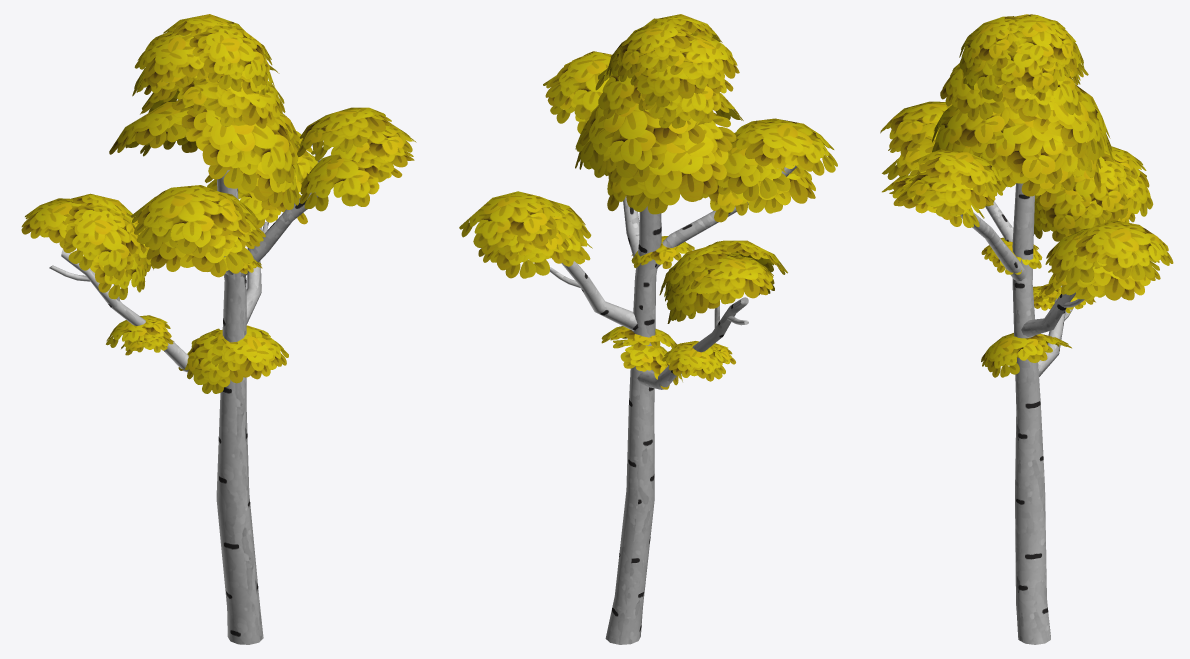
The model's file is Birch_6.gltf.
3 renders of one model, left to right at view 1: azimuth 30°, elevation 25°; view 2: azimuth 150°, elevation 25°; view 3: azimuth 270°, elevation 25°, orthographic. The views are drawn at different scales.
Parts seen in each view (by area): view 1: Birch_10; view 2: Birch_10; view 3: Birch_10.
Boxes of the visible parts, x1,y1,x2,y2 form: Birch_10: (21, 14, 416, 644); Birch_10: (459, 14, 837, 644); Birch_10: (880, 14, 1173, 644).
Bounding box in the file's own units: 5.36 × 10.23 × 4.74.
Materials: 2 (2 with a texture image).
